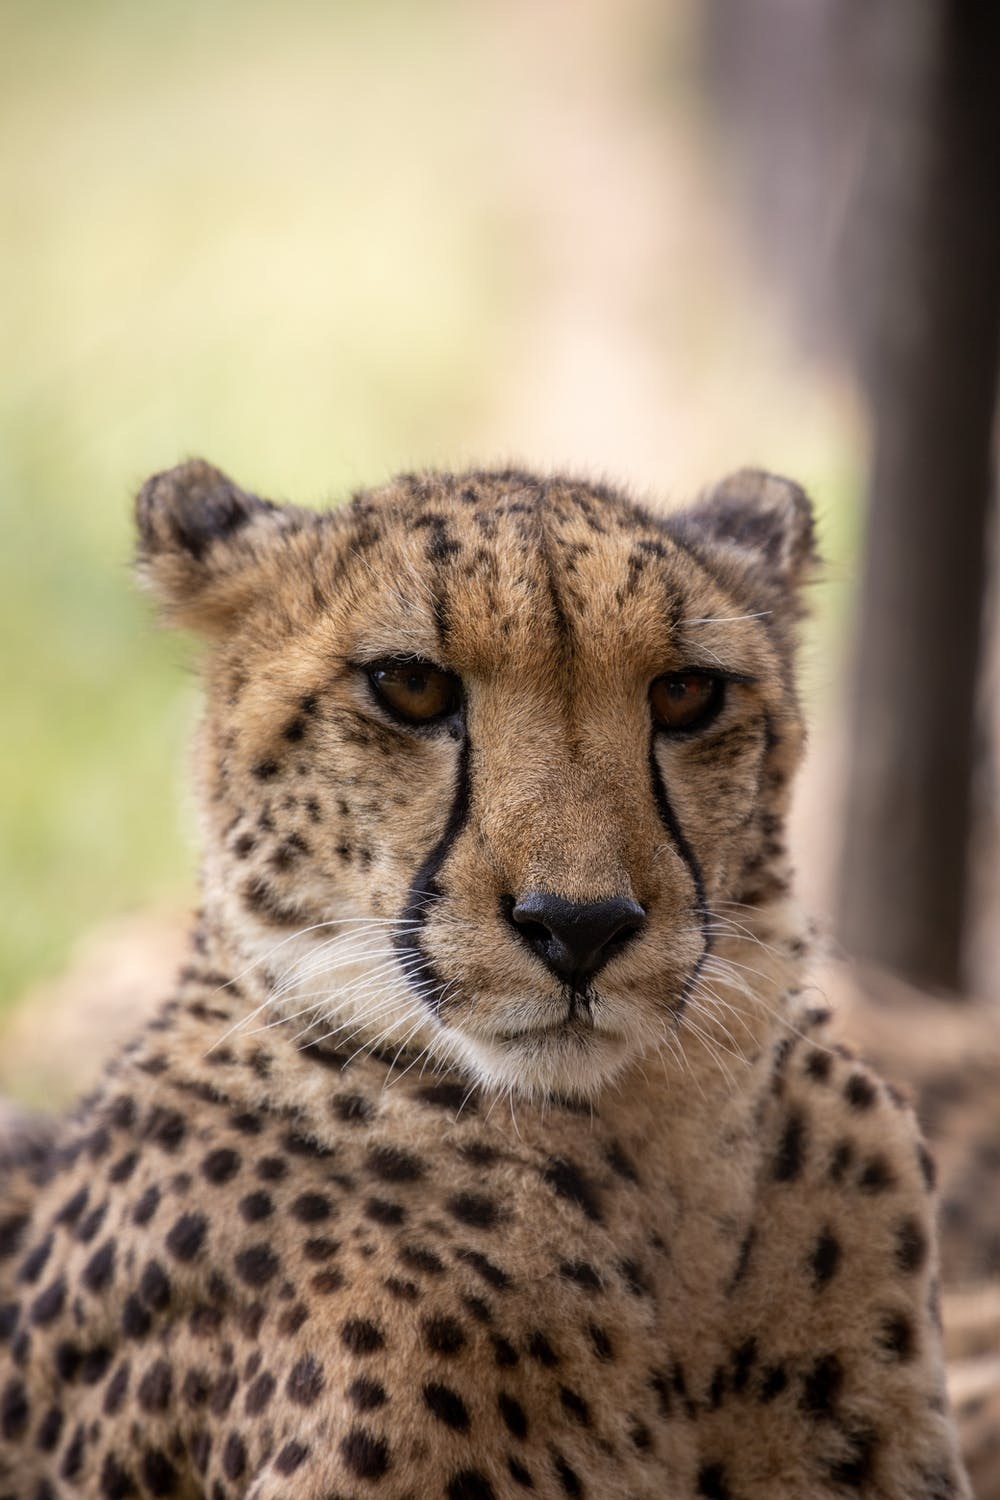cheetah: (79, 417, 868, 1180)
